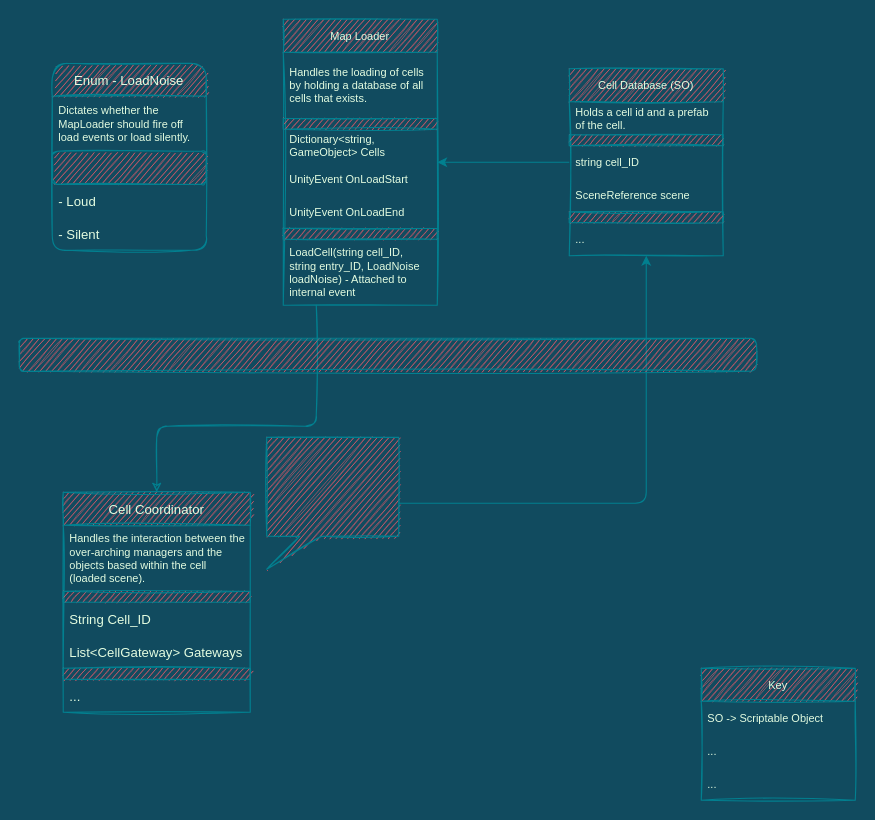
The diagram is 875 pixels wide and 820 high, and some of its shapes have lost their labels. Here are the shapes that lost their labels. From the top down, the centre of each, then its label:
pixel 128 167: Sub-Division -
pixel 387 354: Overarching Managers Border
pixel 332 502: Custom utillity to generate ids.
